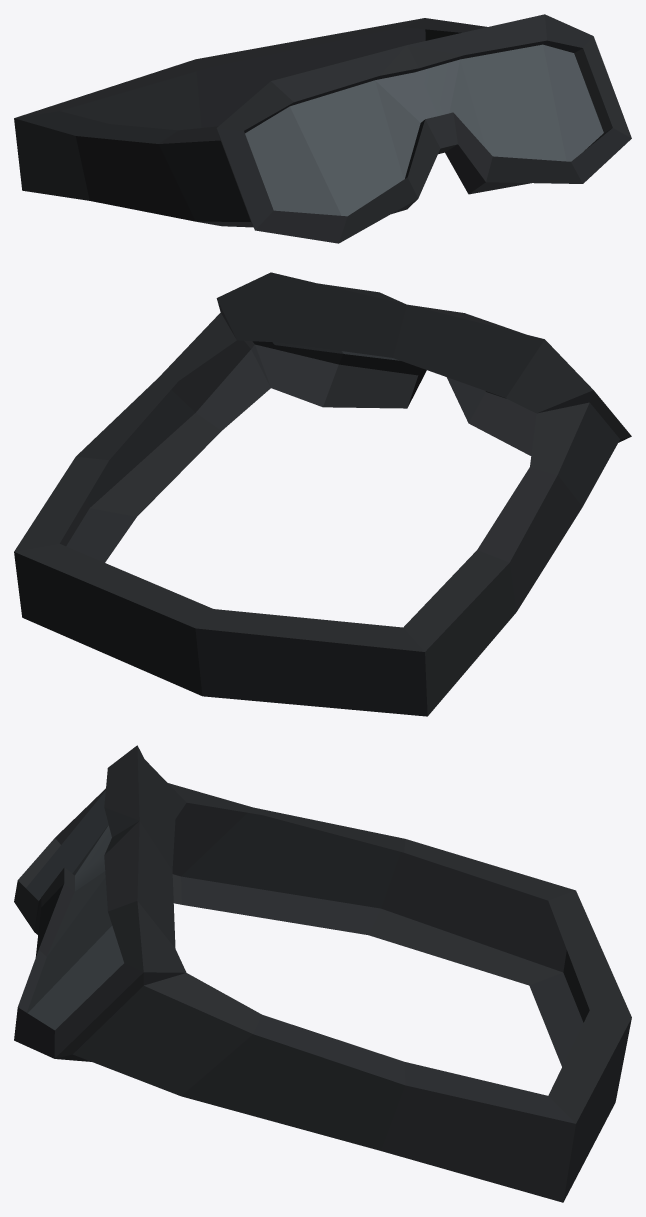
Rendered from SM_Chr_Attach_Goggles_OnHead_01.fbx.
The picture shows the model from 3 angles, top to bottom: view 1: azimuth 30°, elevation 25°; view 2: azimuth 150°, elevation 25°; view 3: azimuth 270°, elevation 25°; orthographic projection. The views are drawn at different scales.
Visible parts, largest first — view 1: SM_Chr_Attach_Goggles_OnHead_01; view 2: SM_Chr_Attach_Goggles_OnHead_01; view 3: SM_Chr_Attach_Goggles_OnHead_01.
Part boxes in pixels (box(x1,y1,x2,y2)): SM_Chr_Attach_Goggles_OnHead_01: box(14, 14, 631, 243); SM_Chr_Attach_Goggles_OnHead_01: box(14, 272, 631, 716); SM_Chr_Attach_Goggles_OnHead_01: box(14, 745, 631, 1202).
Size of the model in its own units: 26.6 by 14.18 by 28.18.
